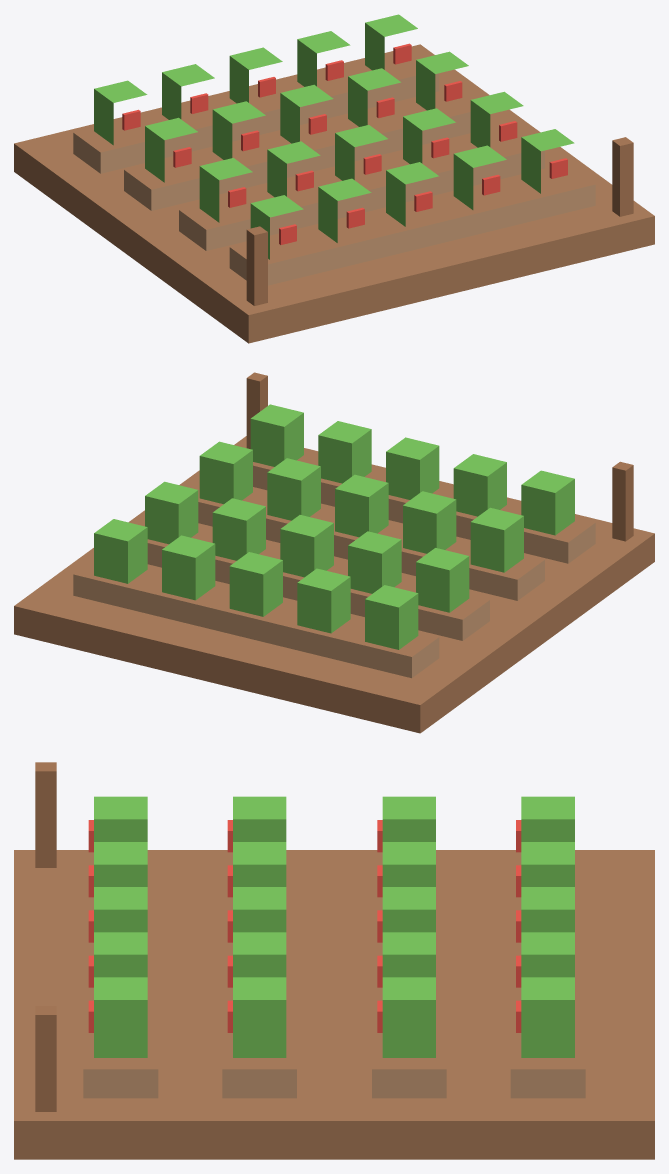
Rendered from field_t1_v4.glb.
The picture shows the model from 3 angles, top to bottom: view 1: azimuth 30°, elevation 25°; view 2: azimuth 150°, elevation 25°; view 3: azimuth 270°, elevation 25°; orthographic projection. The views are drawn at different scales.
Parts seen in each view (by area): view 1: field_t1_v4; view 2: field_t1_v4; view 3: field_t1_v4.
Boxes of the visible parts, <box> form: field_t1_v4: <box>14,14,654,343</box>; field_t1_v4: <box>14,372,654,733</box>; field_t1_v4: <box>14,762,654,1159</box>.
Bounding box in the file's own units: 0.6 × 0.14 × 0.6.
Materials: 1 (1 with a texture image).
